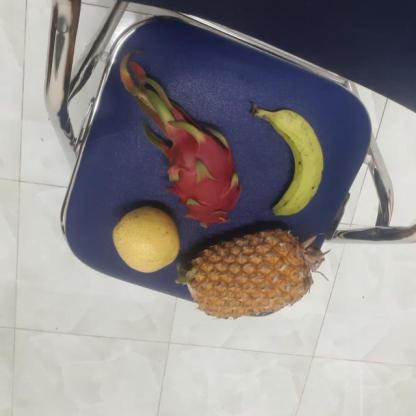banana: (255, 109, 323, 217)
pear: (109, 205, 182, 274)
pineapple: (181, 226, 316, 323)
pitaya: (157, 127, 242, 227)
